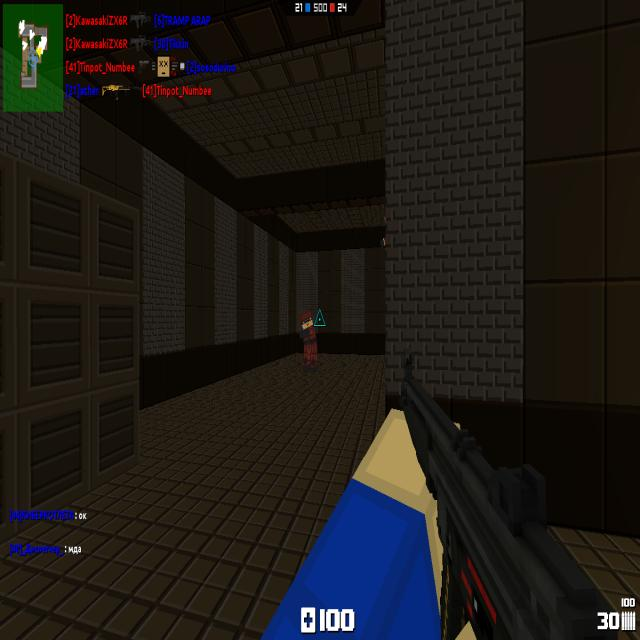enemy: (298, 308, 319, 373)
